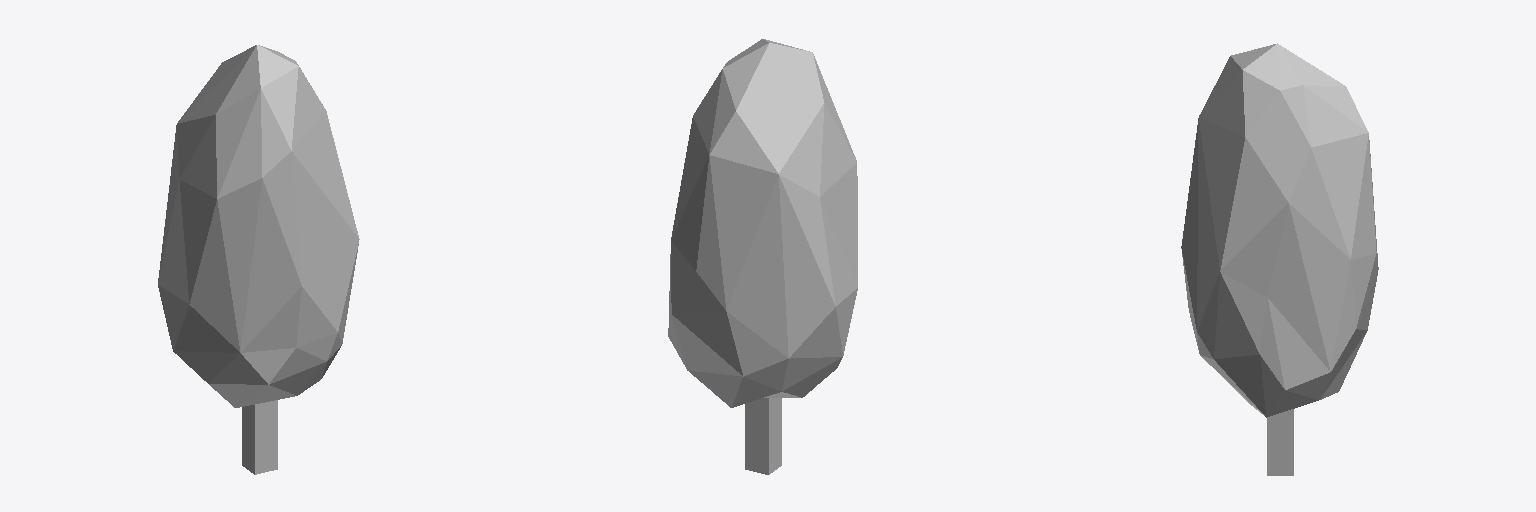
File: Bush2.obj
3 renders of one model, left to right at view 1: azimuth 30°, elevation 25°; view 2: azimuth 150°, elevation 25°; view 3: azimuth 270°, elevation 25°, orthographic.
Visible parts, largest first — view 1: Icosphere; view 2: Icosphere; view 3: Icosphere.
Boxes of the visible parts, box(x1,y1,x2,y2) form: Icosphere: box(158, 45, 359, 474); Icosphere: box(668, 39, 857, 474); Icosphere: box(1181, 43, 1378, 475).
Size of the model in its own units: 0.3765 by 0.9208 by 0.3875.